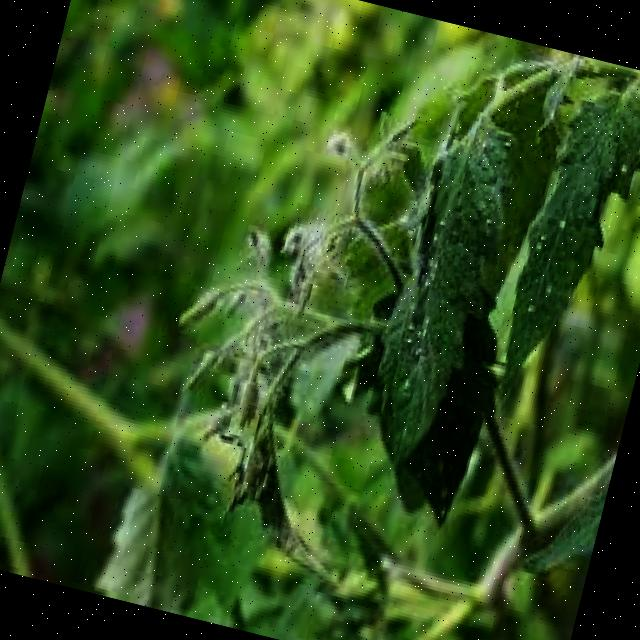whitefly: (372, 121, 516, 404), (503, 130, 634, 357)
